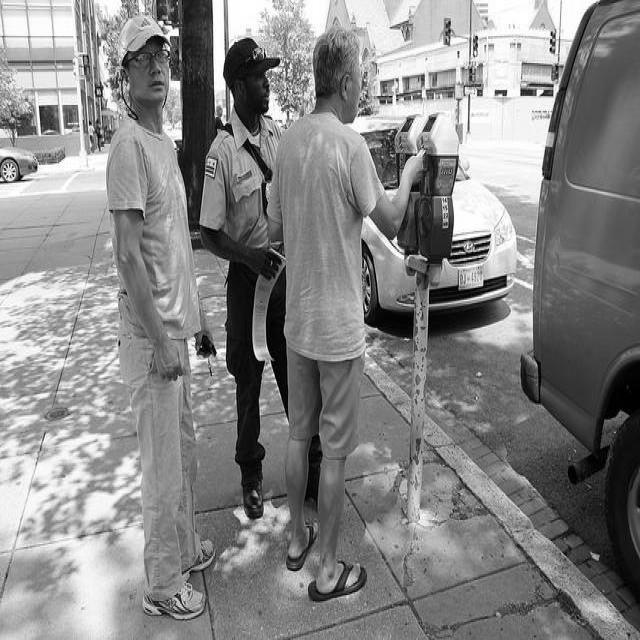vehicle: (524, 3, 640, 629), (521, 3, 639, 600), (345, 119, 517, 329), (0, 146, 38, 184)
